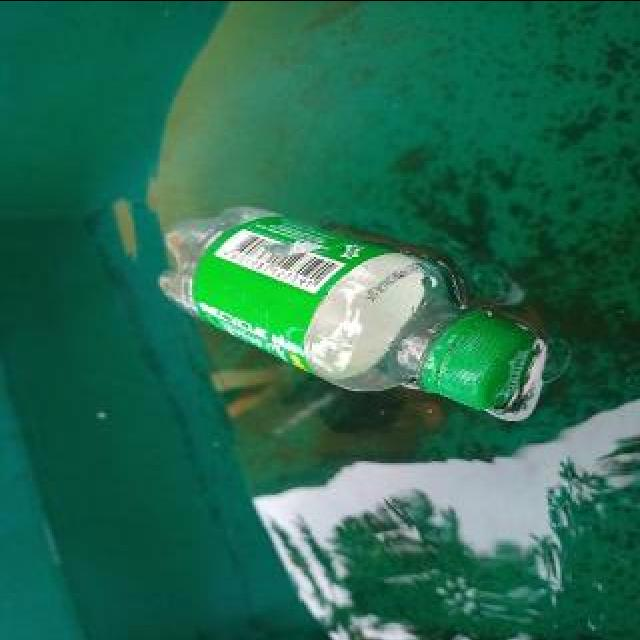Bottle: (153, 198, 549, 426)
